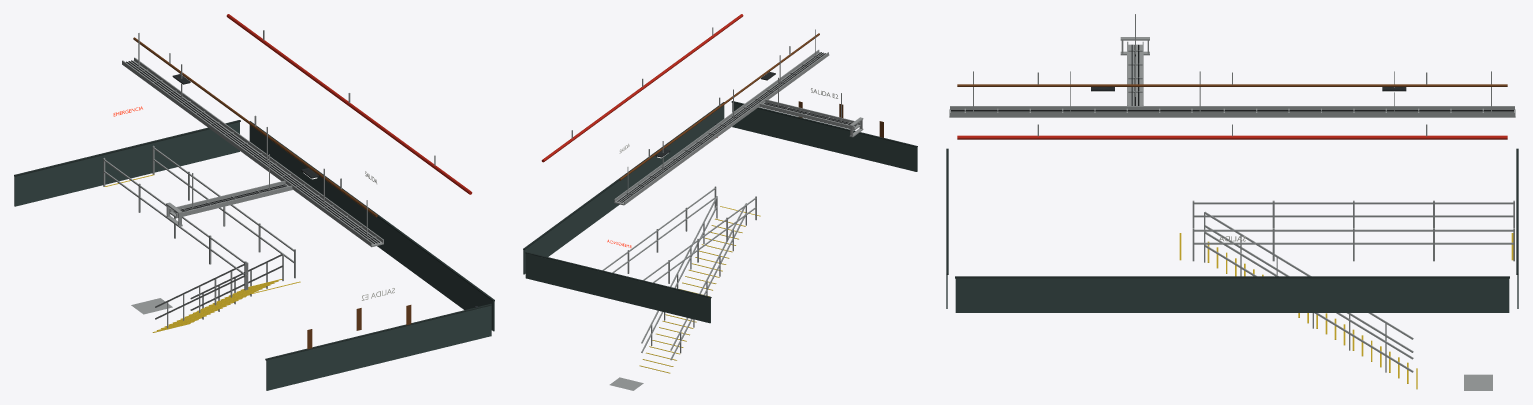
File: stairs_e2_art.glb
3 renders of one model, left to right at view 1: azimuth 30°, elevation 25°; view 2: azimuth 150°, elevation 25°; view 3: azimuth 270°, elevation 25°, orthographic. The views are drawn at different scales.
Visible parts, largest first — view 1: ST_E2_Wainscot_TRIM, ST_E2_TrayLink_CABLE, ST_E2_Ceiling_CABLE, ST_E2_Guardrails_TRIM, ST_E2_Handrails_TRIM, ST_E2_StepNosings_TRIM; view 2: ST_E2_Wainscot_TRIM, ST_E2_TrayLink_CABLE, ST_E2_Ceiling_CABLE, ST_E2_Handrails_TRIM, ST_E2_Guardrails_TRIM, ST_E2_StepNosings_TRIM; view 3: ST_E2_Wainscot_TRIM, ST_E2_TrayLink_CABLE, ST_E2_Ceiling_CABLE, ST_E2_Guardrails_TRIM, ST_E2_Handrails_TRIM, ST_E2_StepNosings_TRIM, ST_E2_Puddle_DIS_WATER.
Part boxes in pixels (x1,y1,x2,y2): ST_E2_Wainscot_TRIM: [14, 120, 494, 390]; ST_E2_TrayLink_CABLE: [122, 33, 383, 247]; ST_E2_Ceiling_CABLE: [133, 14, 472, 217]; ST_E2_Guardrails_TRIM: [103, 145, 295, 290]; ST_E2_Handrails_TRIM: [155, 253, 283, 328]; ST_E2_StepNosings_TRIM: [152, 279, 282, 332]; ST_E2_Wainscot_TRIM: [523, 101, 917, 323]; ST_E2_TrayLink_CABLE: [614, 29, 863, 205]; ST_E2_Ceiling_CABLE: [541, 14, 819, 180]; ST_E2_Handrails_TRIM: [641, 196, 746, 360]; ST_E2_Guardrails_TRIM: [602, 186, 756, 283]; ST_E2_StepNosings_TRIM: [639, 218, 745, 373]; ST_E2_Wainscot_TRIM: [946, 148, 1518, 312]; ST_E2_TrayLink_CABLE: [949, 14, 1515, 117]; ST_E2_Ceiling_CABLE: [957, 72, 1507, 139]; ST_E2_Guardrails_TRIM: [1192, 200, 1514, 261]; ST_E2_Handrails_TRIM: [1204, 211, 1413, 372]; ST_E2_StepNosings_TRIM: [1207, 241, 1417, 389]; ST_E2_Puddle_DIS_WATER: [1464, 374, 1492, 390].
Bounding box in the file's own units: 9.85 × 10.49 × 17.69.
15 materials, 3 textured.
